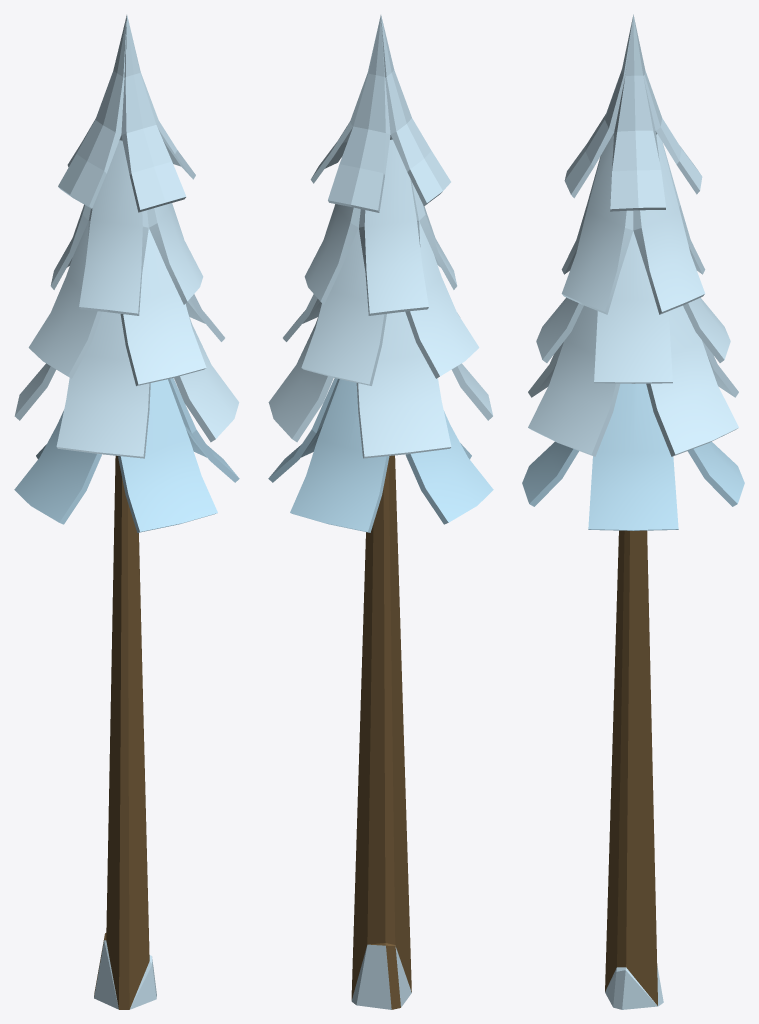
File: model_polytope_snow_fern05.fbx
3 views of the same model, side by side, from view 1: azimuth 30°, elevation 25°; view 2: azimuth 150°, elevation 25°; view 3: azimuth 270°, elevation 25° (orthographic).
Visible parts, largest first — view 1: model_polytope_snow_fern05; view 2: model_polytope_snow_fern05; view 3: model_polytope_snow_fern05.
Part boxes in pixels (box(x1,y1,x2,y2)): model_polytope_snow_fern05: box(14, 15, 239, 1009); model_polytope_snow_fern05: box(268, 15, 493, 1009); model_polytope_snow_fern05: box(522, 14, 744, 1009).
Bounding box in the file's own units: 202 × 987 × 202.
Materials: 1 (1 with a texture image).
